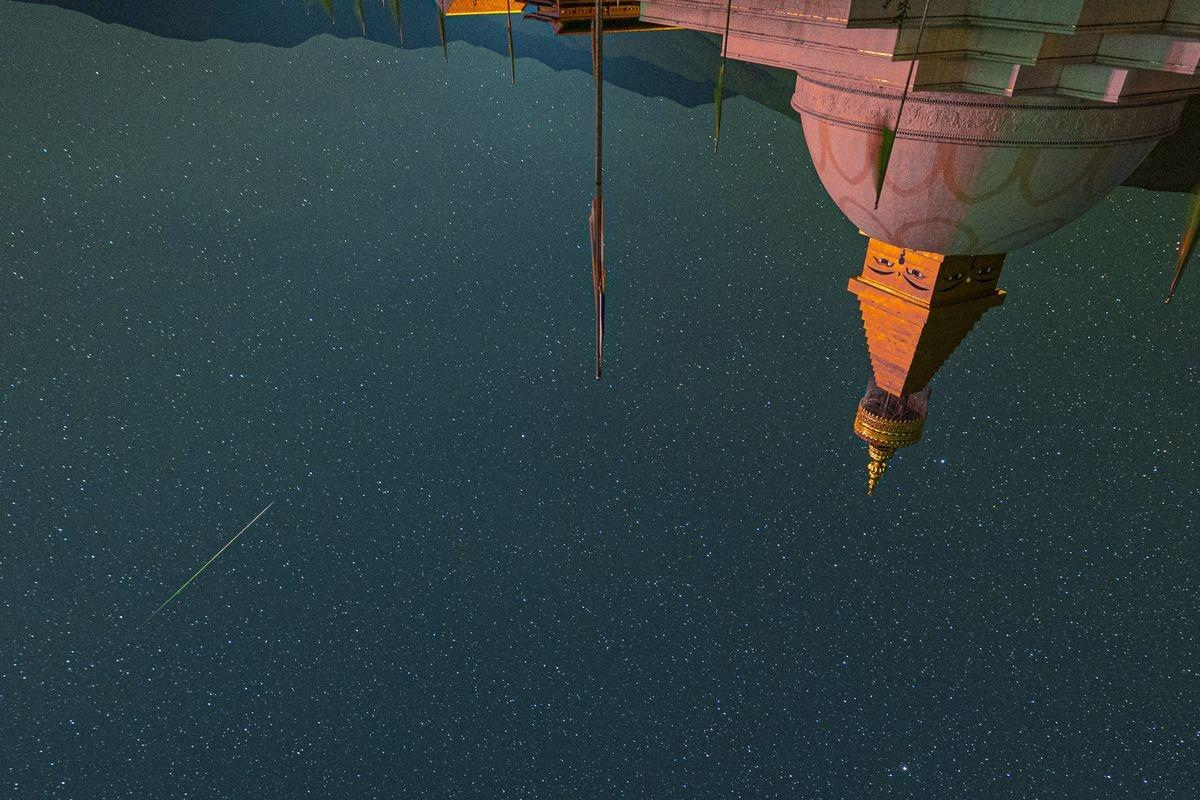meteorite: (115, 484, 299, 643)
